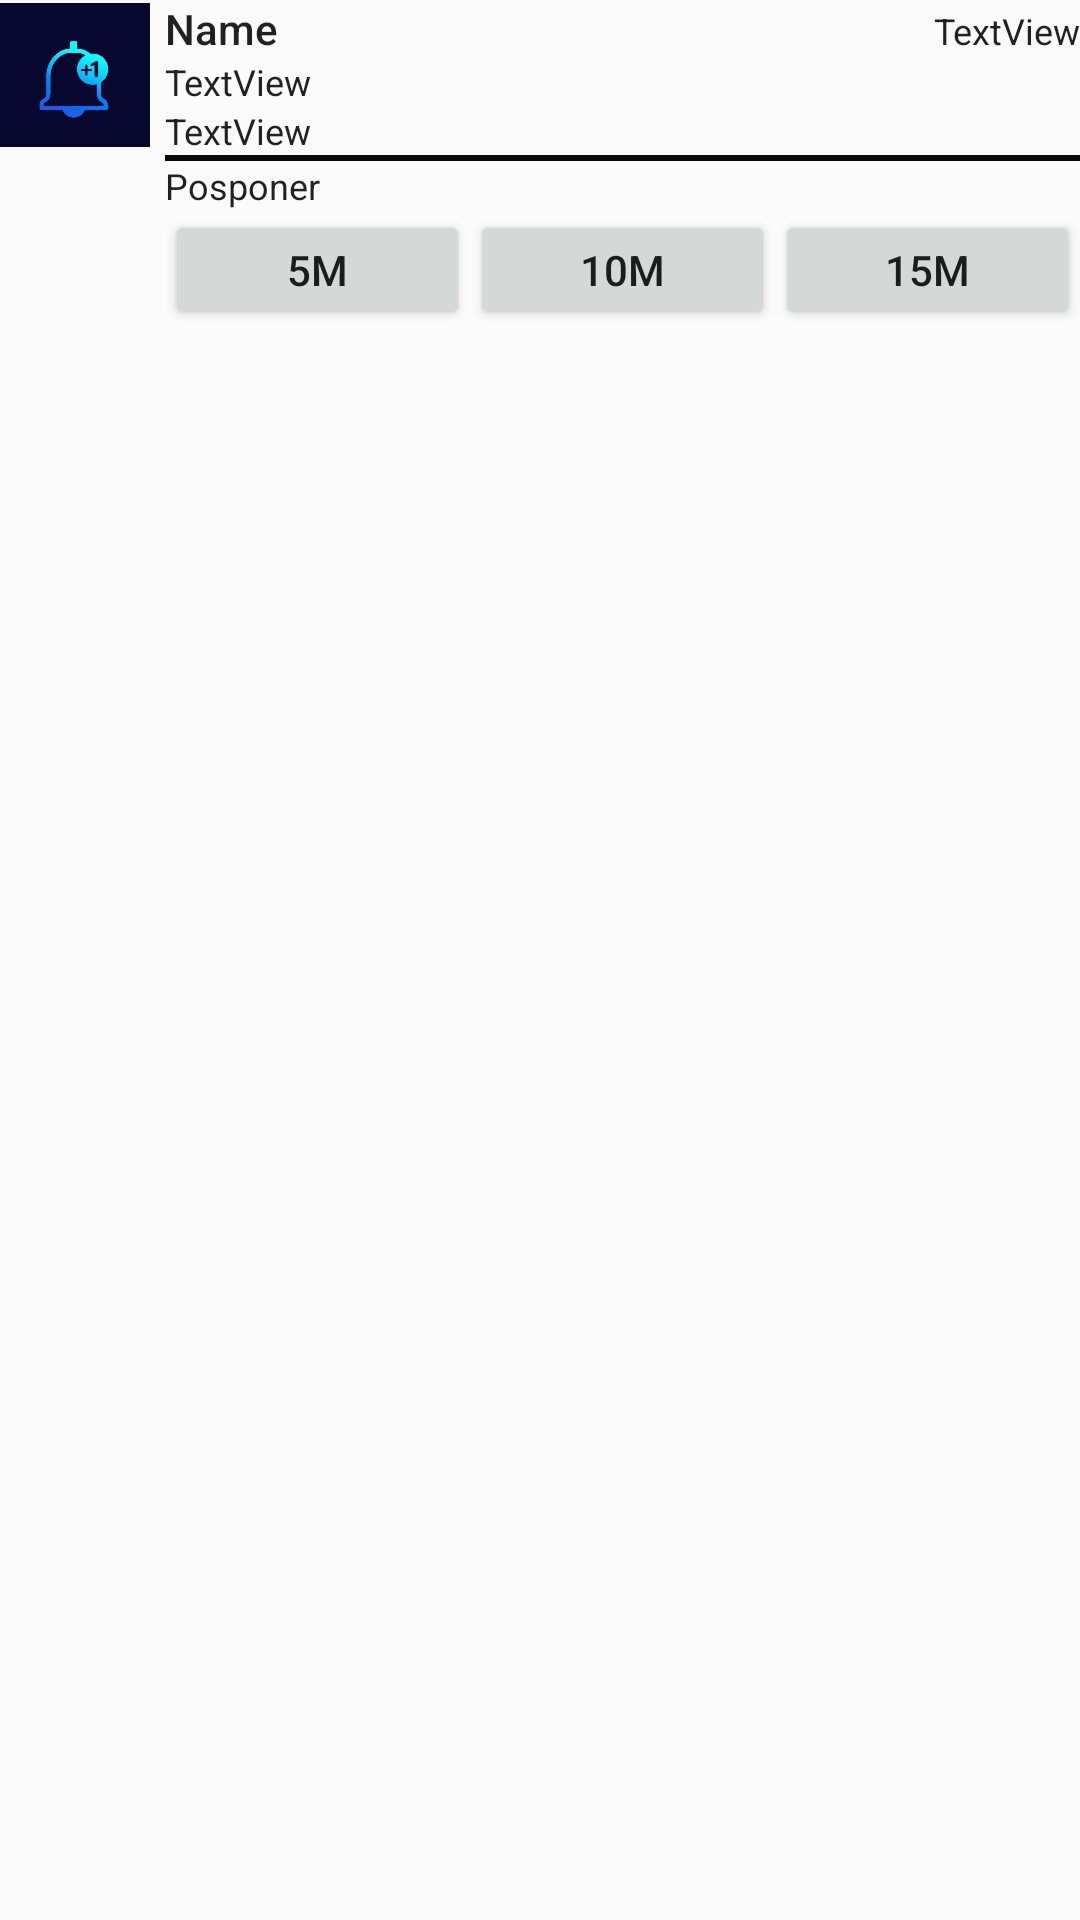

Icons on this 1080px x 1920px Android screen, each with the point to tap as point (x, y):
notificacion: point (75, 75)
